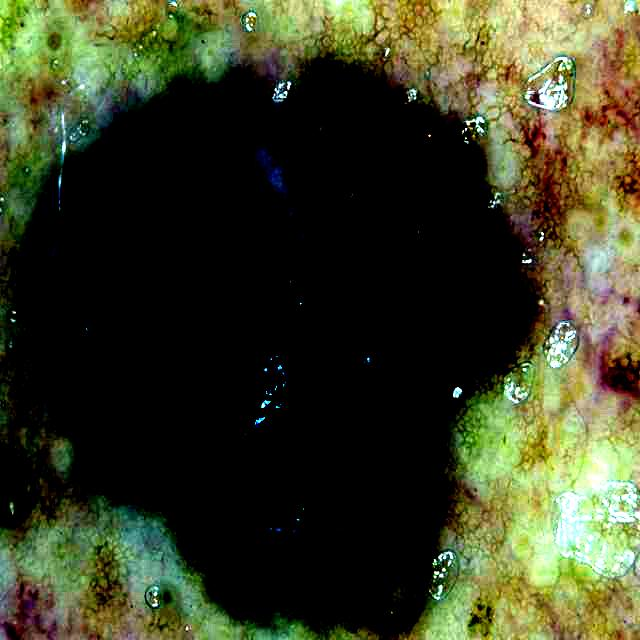MEL: (38, 61, 533, 578)
